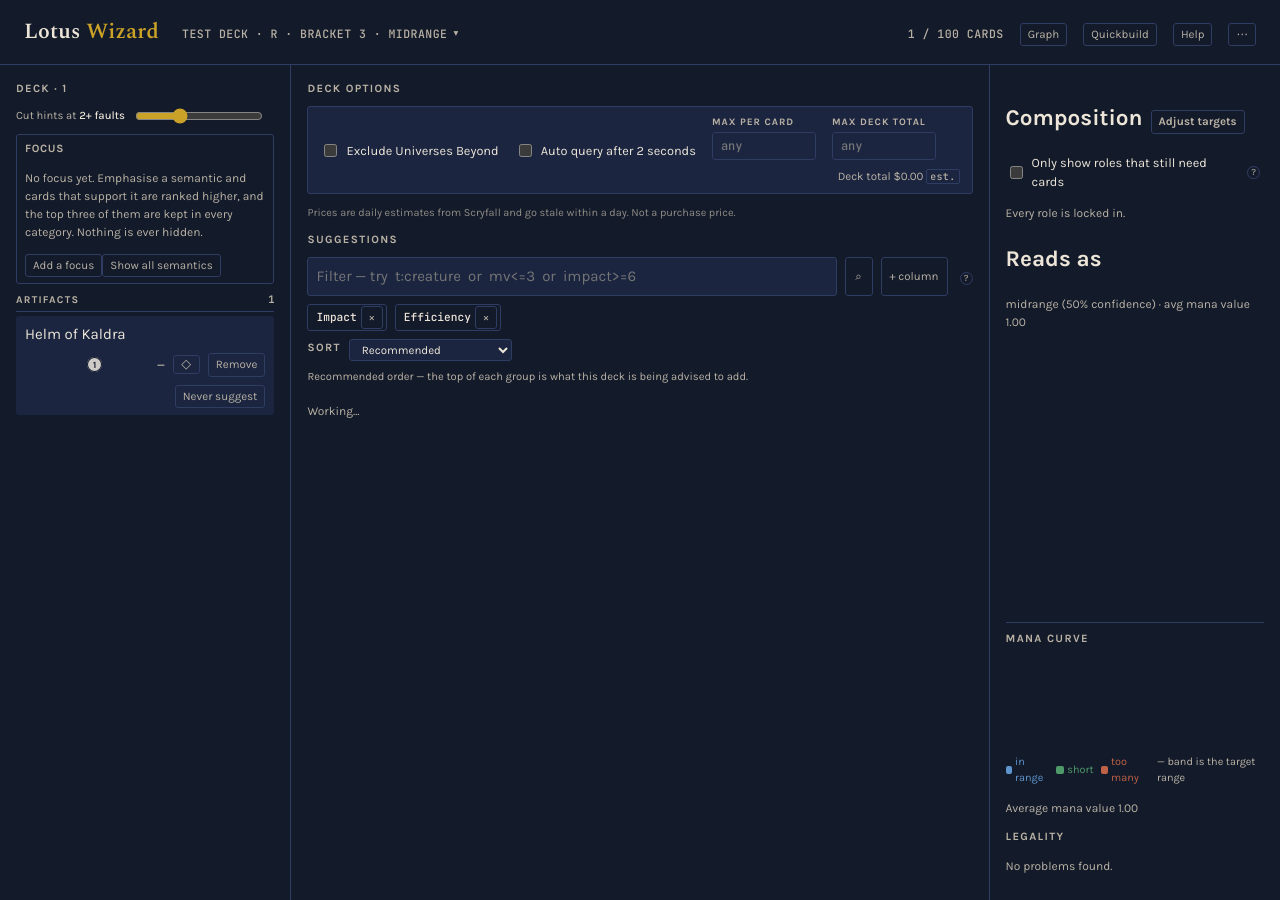
Test case: a card named in oracle text › links the rest of a list that begins with the card naming itself
Click the button "Helm of Kaldra".
click(145, 334)  # box [25,323,266,345]
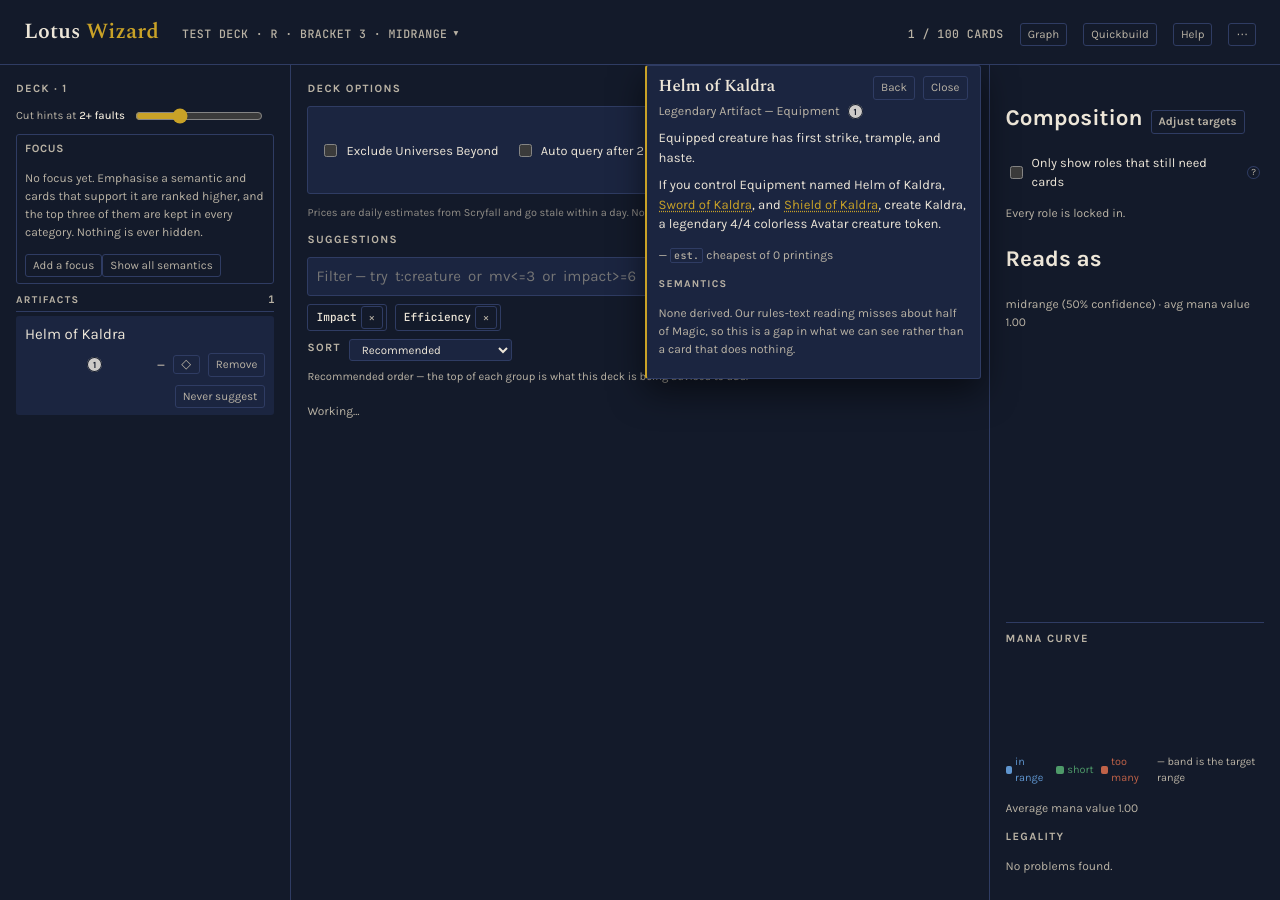
Result: the button with aria-label "Open Sword of Kaldra" is shown at [658,195,752,214]
Result: the button with aria-label "Open Shield of Kaldra" is shown at [784,195,878,214]
